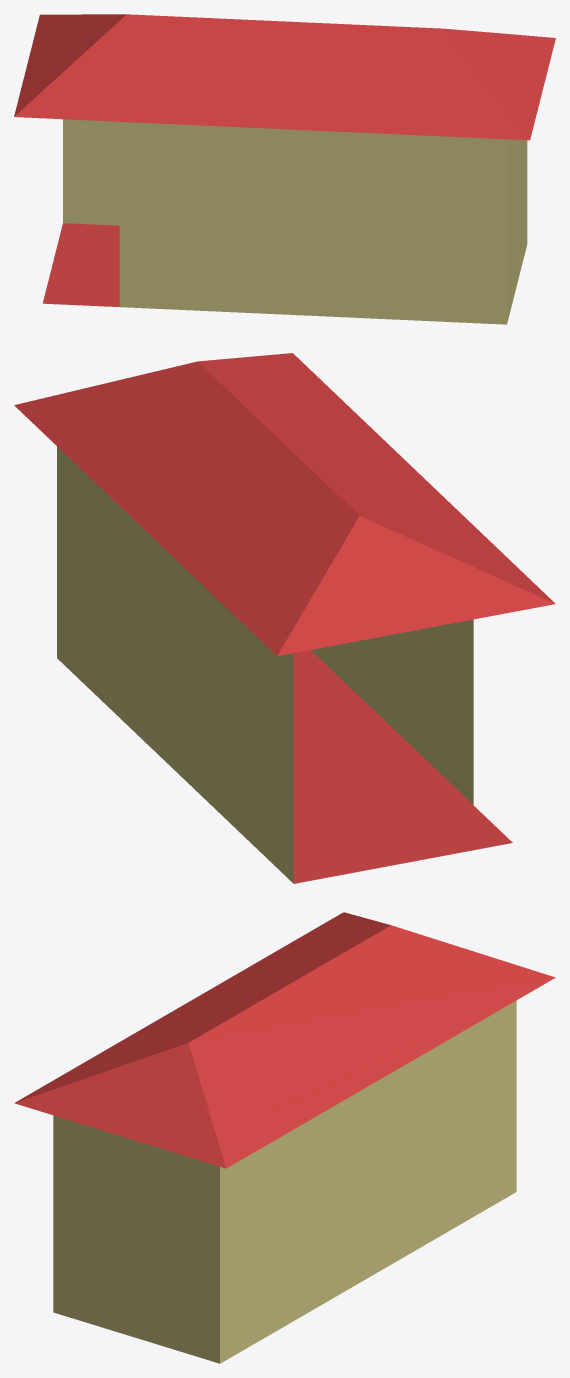
3 views of the same model, one above another, from view 1: azimuth 30°, elevation 25°; view 2: azimuth 150°, elevation 25°; view 3: azimuth 270°, elevation 25° (orthographic). The views are drawn at different scales.
Visible parts, largest first — view 1: group_5, group_3, group_4, group_6; view 2: group_3, group_5, group_6, group_4; view 3: group_5, group_3, group_4.
Boxes of the visible parts, box(x1,y1,x2,y2) form: group_5: box(63, 119, 527, 324); group_3: box(14, 14, 555, 138); group_4: box(14, 38, 555, 140); group_6: box(42, 223, 119, 306); group_3: box(17, 355, 554, 656); group_5: box(57, 446, 473, 883); group_6: box(293, 650, 512, 883); group_4: box(14, 353, 555, 655); group_5: box(53, 1000, 516, 1363); group_3: box(54, 915, 555, 1168); group_4: box(14, 912, 554, 1168).
Bounding box in the file's own units: 16.22 × 14.49 × 7.95.
